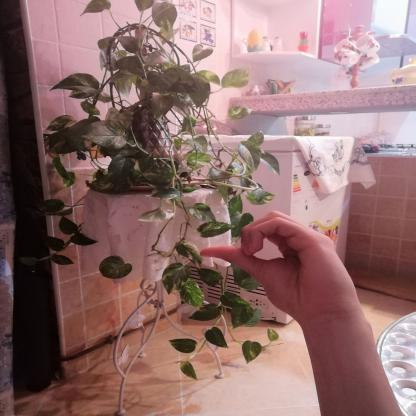WAW: (184, 203, 368, 333)
